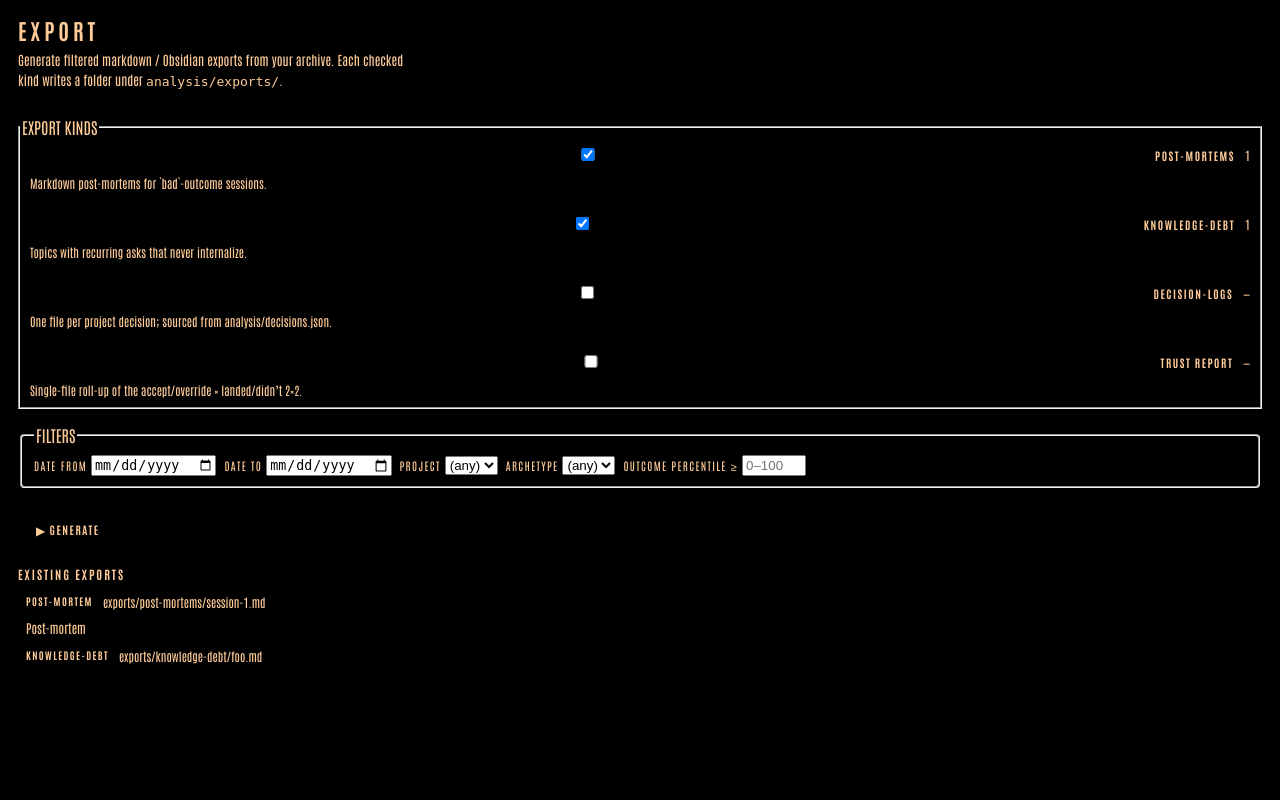
Test: ExportMode › cycles through the running → done states on the mock generate flow
Click the button with test id "generate-btn".
click(68, 530)  # box [18,514,118,546]
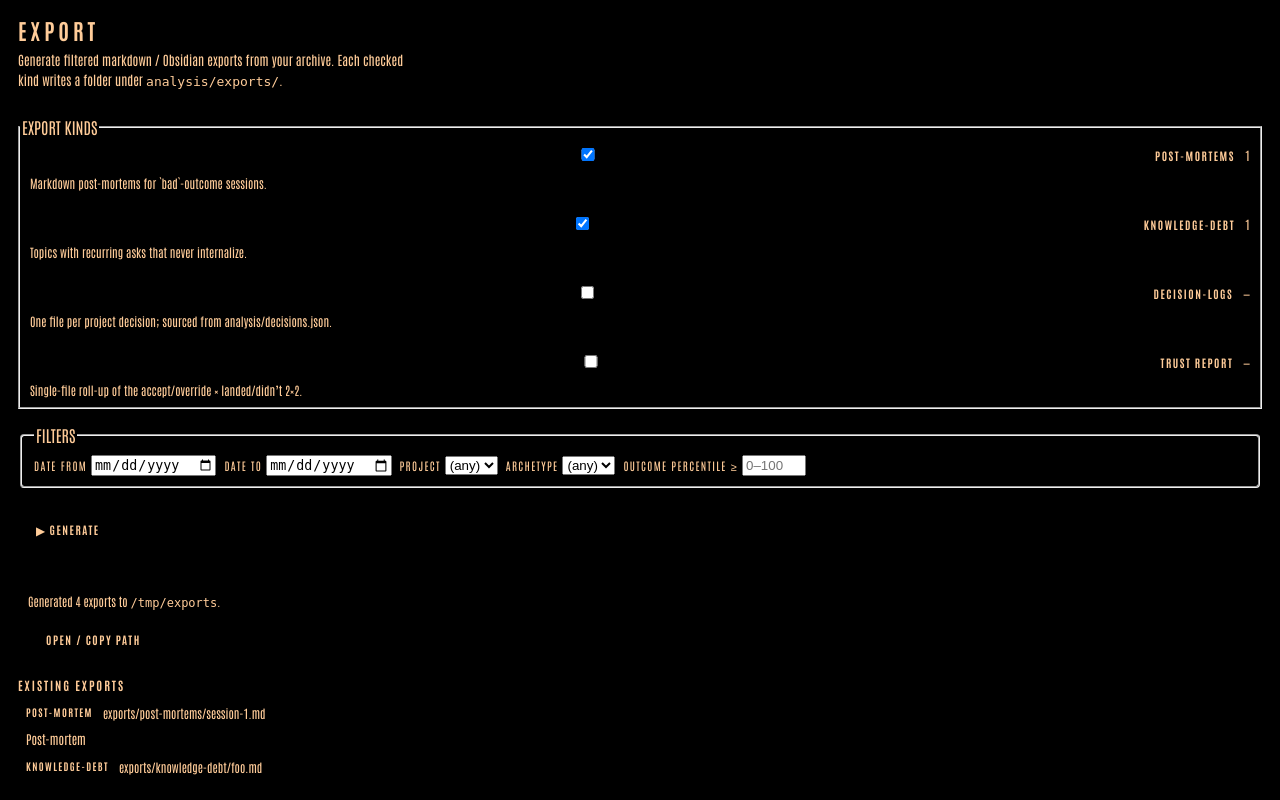
Check: the message "Generated 4 exports to /tmp/exports. OPEN / COPY PATH" is shown, box [28,593,220,655]
Check: the text "/tmp/exports" is shown, box [131,596,217,610]
Check: the button with test id "open-output-btn" is shown, box [28,624,159,655]
